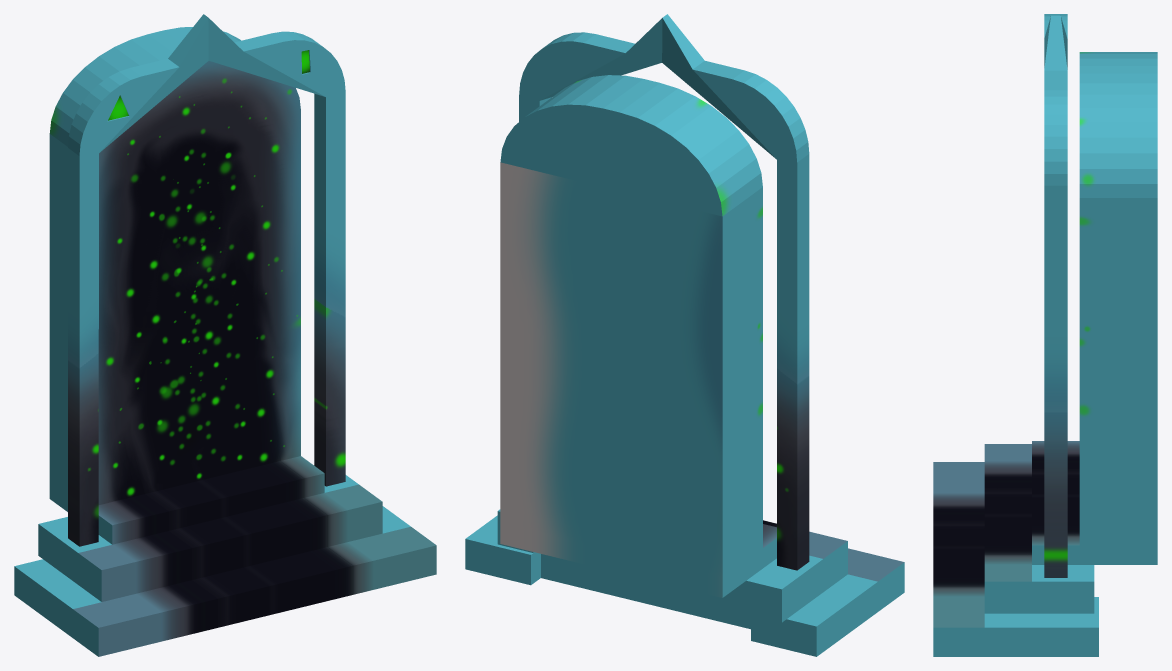
Rendered from portal.fbx.
3 renders of one model, left to right at view 1: azimuth 30°, elevation 25°; view 2: azimuth 150°, elevation 25°; view 3: azimuth 270°, elevation 25°, orthographic. The views are drawn at different scales.
Parts seen in each view (by area): view 1: Cube.002; view 2: Cube.002; view 3: Cube.002.
Part boxes in pixels (x1,y1,x2,y2): Cube.002: [14, 14, 436, 656]; Cube.002: [465, 14, 904, 656]; Cube.002: [933, 14, 1157, 656].
Size of the model in its own units: 633 by 361 by 993.
1 material, 1 textured.
